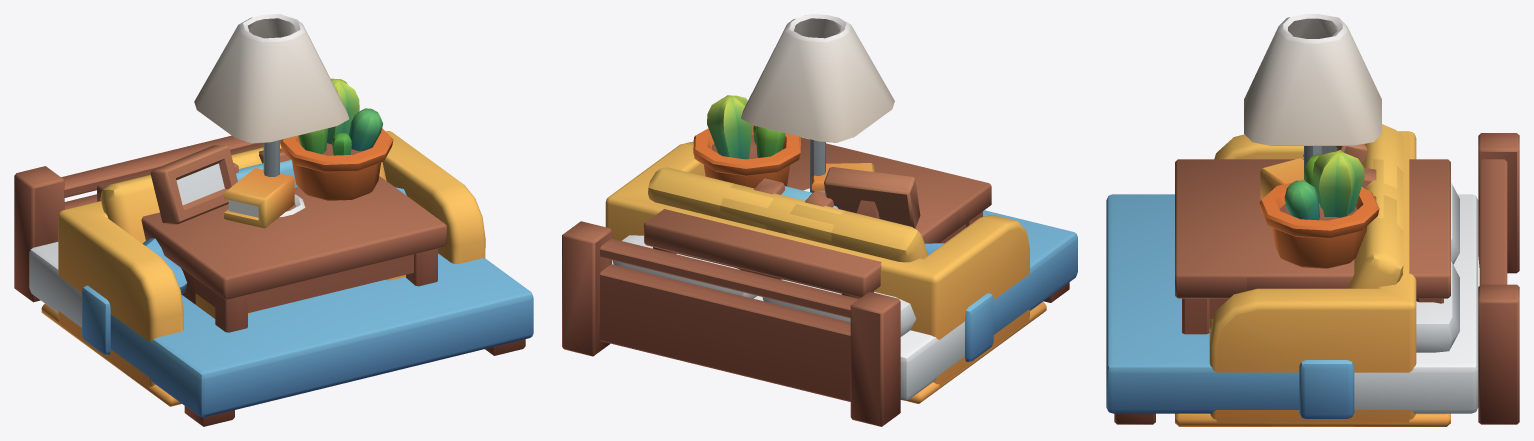
The model's file is kk-furniture.glb.
3 views of the same model, side by side, from view 1: azimuth 30°, elevation 25°; view 2: azimuth 150°, elevation 25°; view 3: azimuth 270°, elevation 25° (orthographic). The views are drawn at different scales.
Parts seen in each view (by area): view 1: bed_double_A, table_medium, couch_pillows, cabinet_medium_decorated, lamp_standing, armchair_pillows, rug_rectangle_stripes_A, chair_B; view 2: bed_double_A, couch_pillows, table_medium, lamp_standing, cabinet_medium_decorated, armchair_pillows, rug_rectangle_stripes_A, chair_A, chair_B; view 3: bed_double_A, couch_pillows, table_medium, lamp_standing, cabinet_medium_decorated, rug_rectangle_stripes_A, armchair_pillows, rug_oval_A.
Boxes of the visible parts, x1=… form: bed_double_A: x1=14, y1=135, x2=533, y2=426; table_medium: x1=97, y1=139, x2=446, y2=332; couch_pillows: x1=58, y1=131, x2=485, y2=388; cabinet_medium_decorated: x1=144, y1=78, x2=393, y2=304; lamp_standing: x1=194, y1=14, x2=349, y2=176; armchair_pillows: x1=195, y1=144, x2=405, y2=318; rug_rectangle_stripes_A: x1=41, y1=303, x2=181, y2=406; chair_B: x1=228, y1=148, x2=297, y2=204; bed_double_A: x1=562, y1=210, x2=1077, y2=426; couch_pillows: x1=605, y1=141, x2=1029, y2=385; table_medium: x1=644, y1=137, x2=991, y2=298; lamp_standing: x1=741, y1=14, x2=894, y2=192; cabinet_medium_decorated: x1=693, y1=95, x2=959, y2=243; armchair_pillows: x1=720, y1=183, x2=844, y2=240; rug_rectangle_stripes_A: x1=904, y1=302, x2=1046, y2=403; chair_A: x1=754, y1=178, x2=834, y2=207; chair_B: x1=754, y1=179, x2=838, y2=208; bed_double_A: x1=1106, y1=133, x2=1519, y2=424; couch_pillows: x1=1209, y1=124, x2=1416, y2=422; table_medium: x1=1175, y1=159, x2=1450, y2=334; lamp_standing: x1=1244, y1=14, x2=1381, y2=179; cabinet_medium_decorated: x1=1247, y1=144, x2=1379, y2=290; rug_rectangle_stripes_A: x1=1175, y1=413, x2=1450, y2=426; armchair_pillows: x1=1209, y1=159, x2=1403, y2=329; rug_oval_A: x1=1271, y1=422, x2=1354, y2=426.
Bounding box in the file's own units: 3.1 × 2.77 × 3.
Materials: 1 (1 with a texture image).
